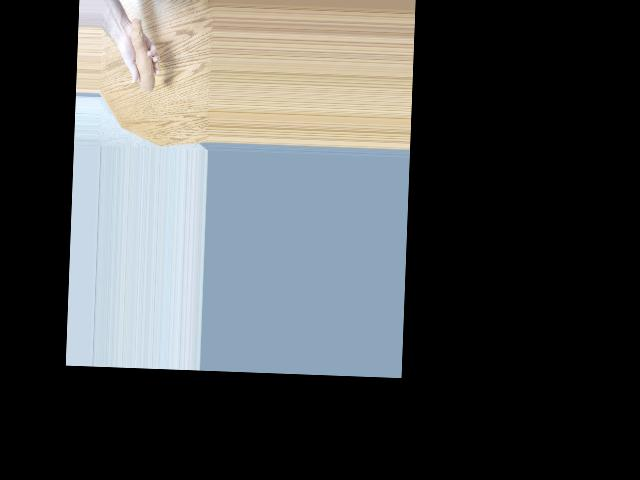sweet_potato: (127, 20, 157, 93)
